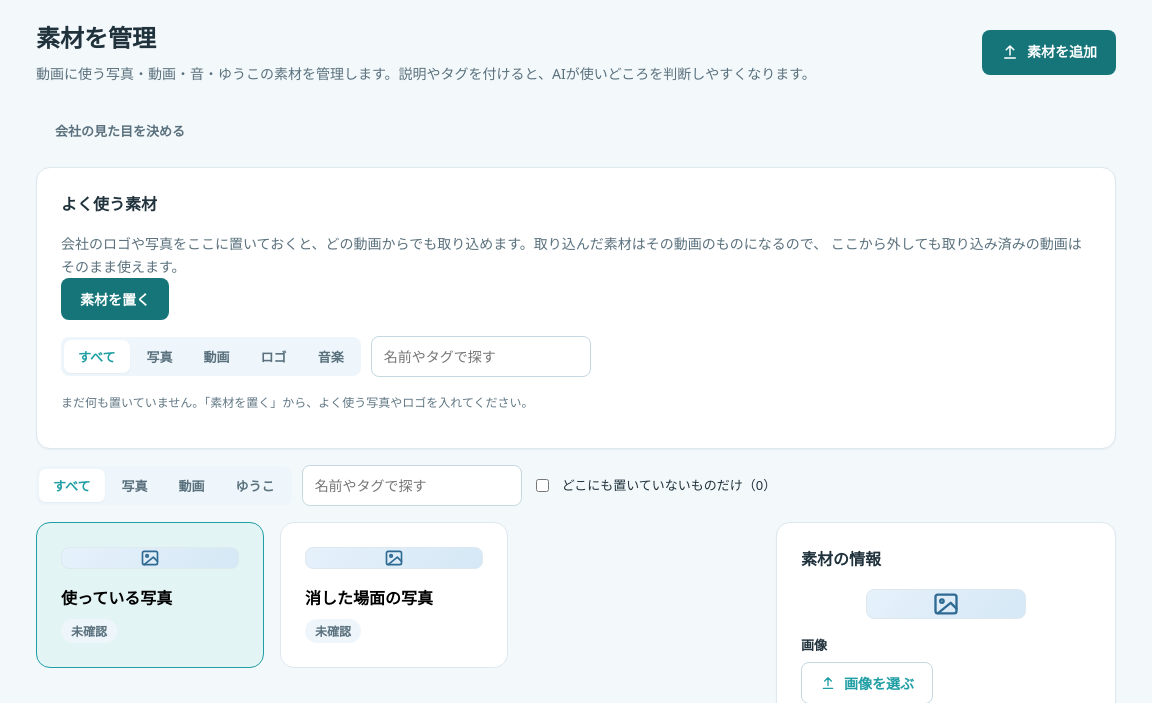
Test case: MaterialsScreen 取り消しで戻る場面が指す素材 › 取り消しで戻る場面が使っているときは、その旨を先に言う
Click the button "消した場面の写真 未確認" at (394, 595), box x1=280 y1=522 x2=508 y2=668
(page scrolled)
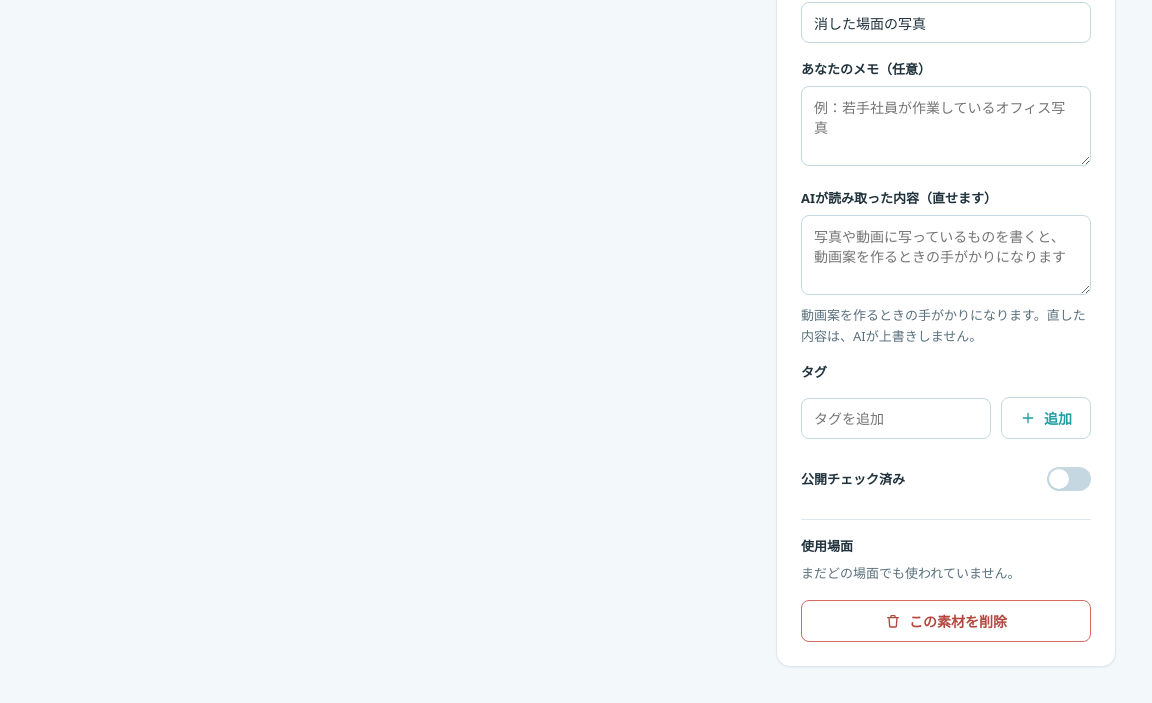
Click the button "この素材を削除" at (946, 621), box x1=801 y1=600 x2=1091 y2=642
(page scrolled)
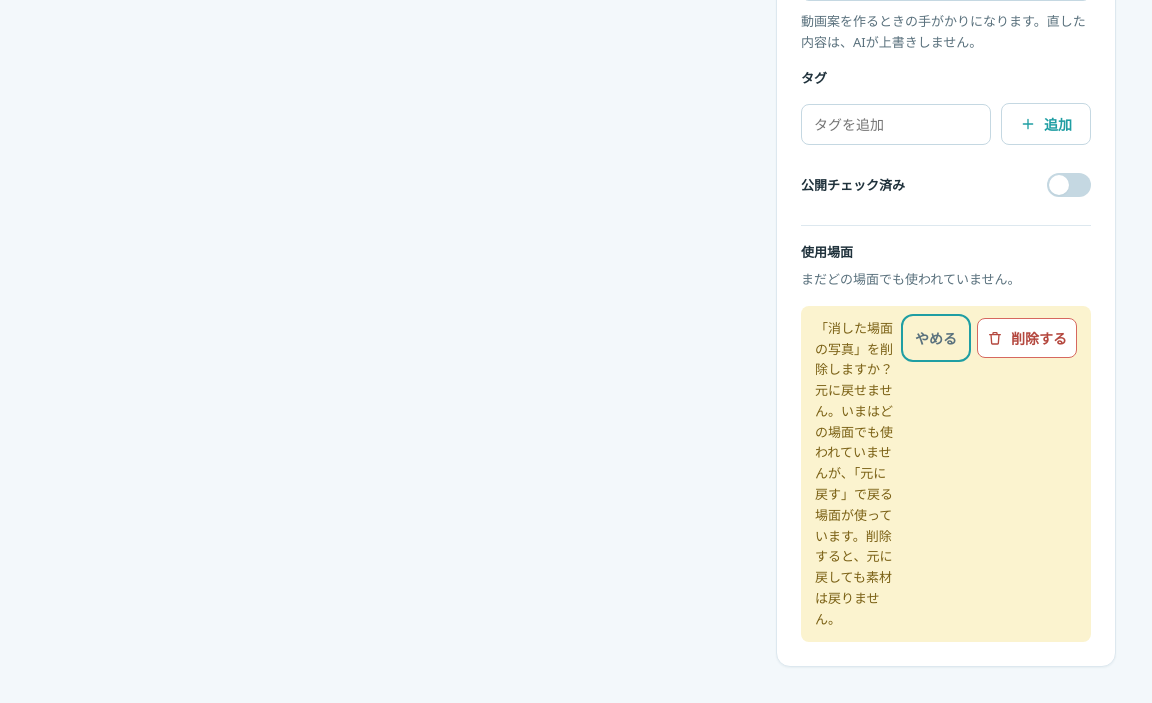
Now the text "「元に戻す」で戻る場面が使っています" is shown, box x1=815 y1=402 x2=893 y2=628
